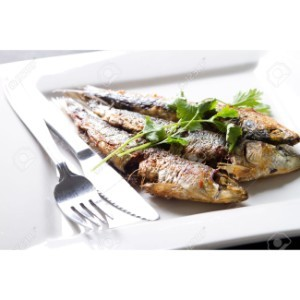sardine_brain food: (124, 101, 279, 189)
